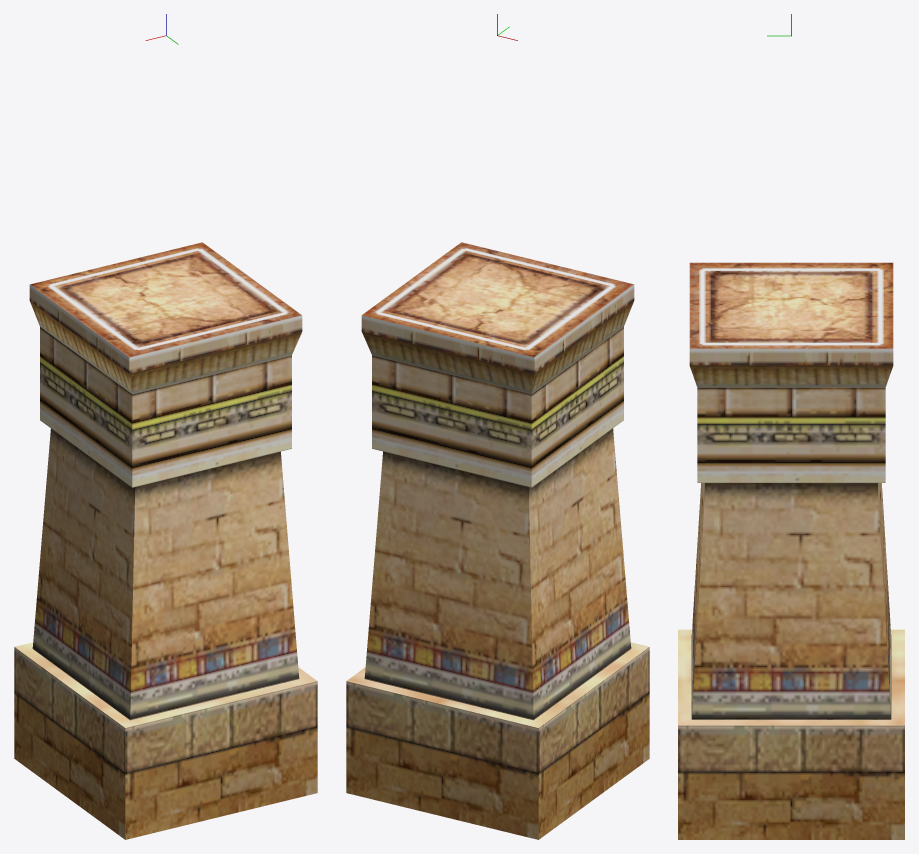
The model's file is egyptian-wall-connector.glb.
3 renders of one model, left to right at view 1: azimuth 30°, elevation 25°; view 2: azimuth 150°, elevation 25°; view 3: azimuth 270°, elevation 25°, orthographic. The views are drawn at different scales.
Parts seen in each view (by area): view 1: building e wallconnector age2Model; view 2: building e wallconnector age2Model; view 3: building e wallconnector age2Model.
Part boxes in pixels (bbox=[...]): building e wallconnector age2Model: bbox=[14, 242, 317, 839]; building e wallconnector age2Model: bbox=[346, 242, 649, 839]; building e wallconnector age2Model: bbox=[678, 262, 904, 839].
Bounding box in the file's own units: 2.31 × 8.75 × 2.31.
3 materials, 2 textured.
